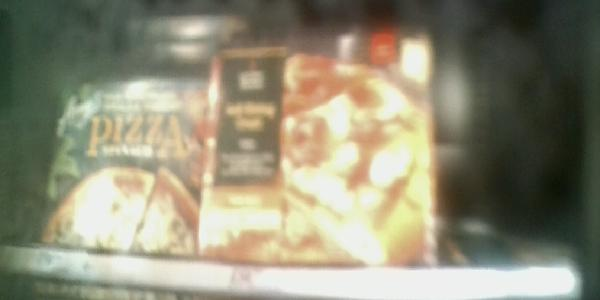pizza1: (205, 25, 439, 267), (40, 84, 200, 257)
